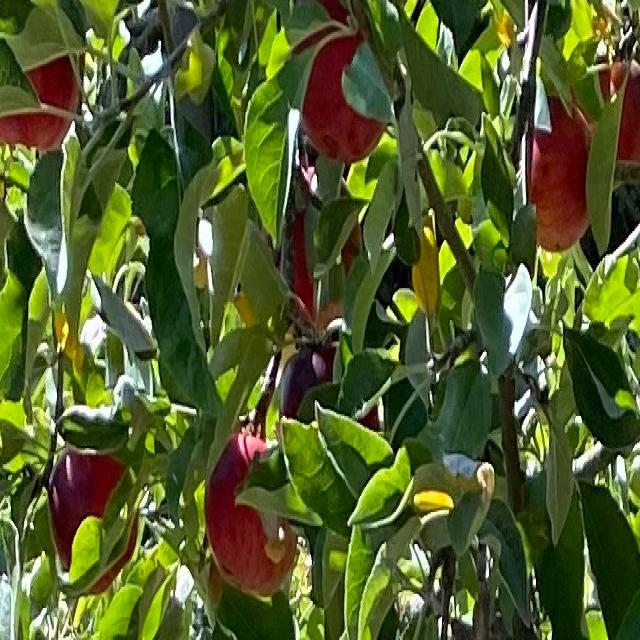Apples: (292, 0, 387, 158), (207, 436, 297, 590), (50, 446, 139, 594), (516, 92, 593, 250), (277, 198, 363, 332), (281, 345, 379, 434), (1, 50, 83, 149), (599, 61, 639, 166)
